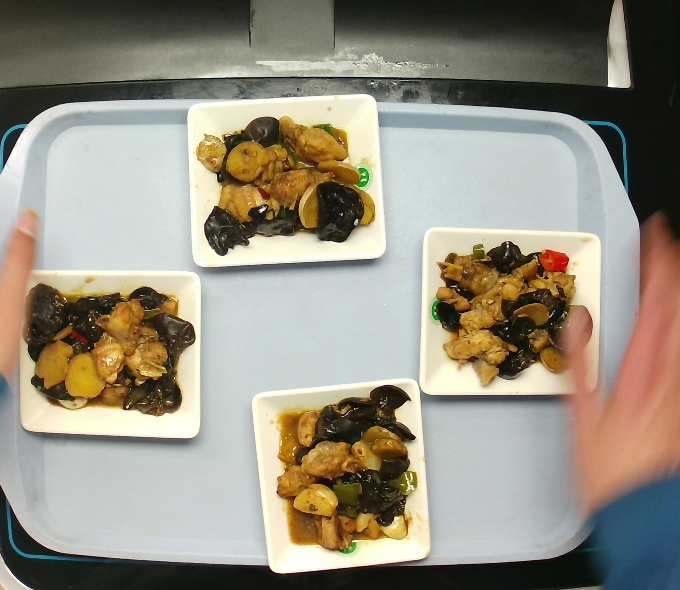wcq-MuErJiKuai: (198, 106, 375, 262), (274, 377, 419, 554), (32, 269, 186, 423), (436, 234, 574, 383)
